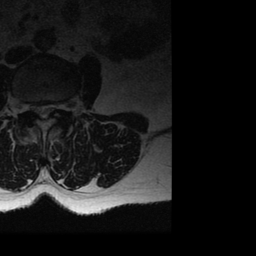CCS_stenosis: (40, 97, 47, 124)
LFS_normal: (54, 96, 62, 115)
LLS_normal: (47, 96, 54, 118)
RFS_normal: (26, 96, 34, 117)
RLS_normal: (34, 98, 40, 119)
